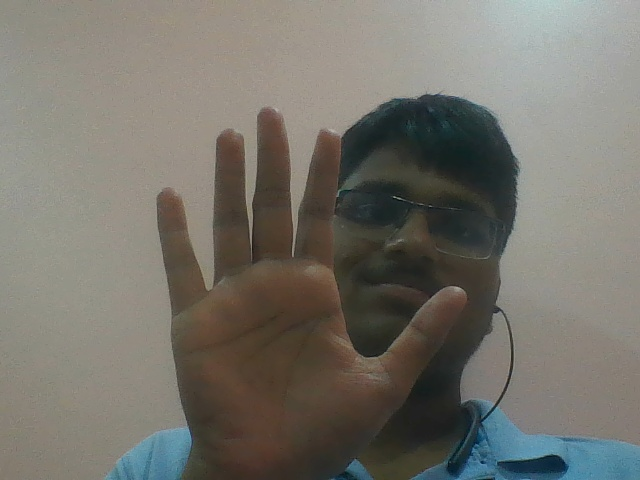Hello: (135, 104, 467, 480)
